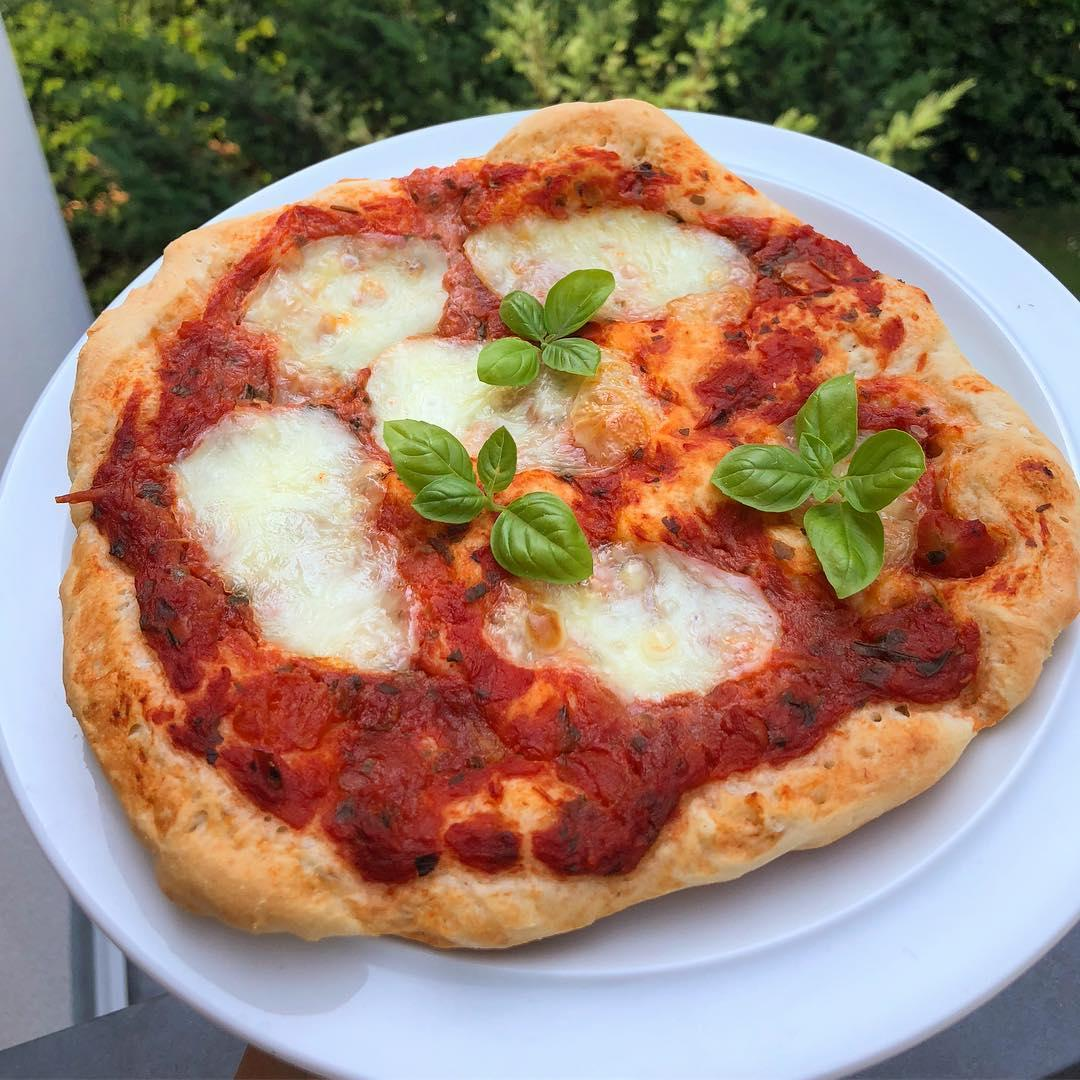Basil: (709, 377, 926, 598), (381, 413, 593, 584), (479, 267, 612, 390)
Cheese: (153, 405, 414, 685), (513, 553, 781, 692), (373, 333, 634, 474), (237, 233, 448, 390), (465, 213, 753, 321)
Pizza: (67, 101, 1080, 945)
